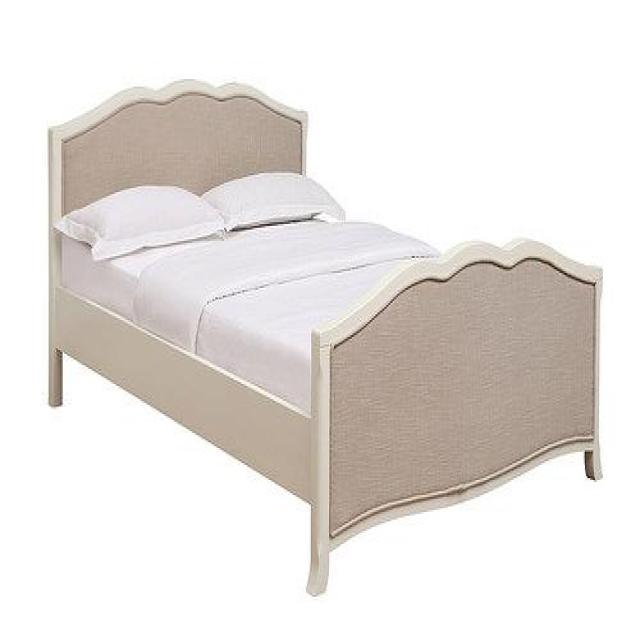bed: (46, 77, 603, 595)
